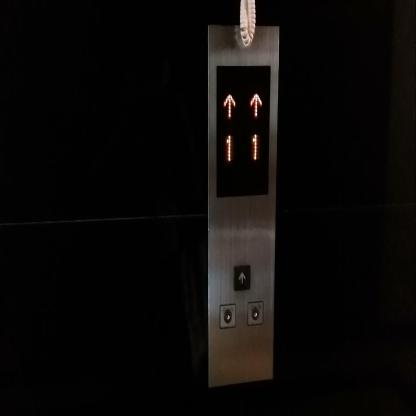bt_keyhole: (247, 299, 264, 328), (218, 302, 236, 329)
led: (215, 63, 269, 198)
up: (232, 263, 251, 292)
